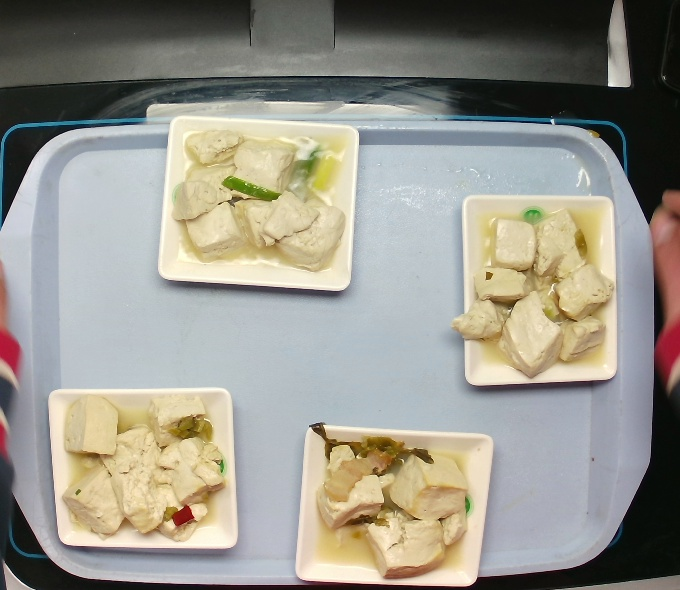wcq-LuDouFu: (445, 204, 614, 386), (167, 126, 350, 277), (58, 389, 229, 550), (316, 427, 476, 582)
